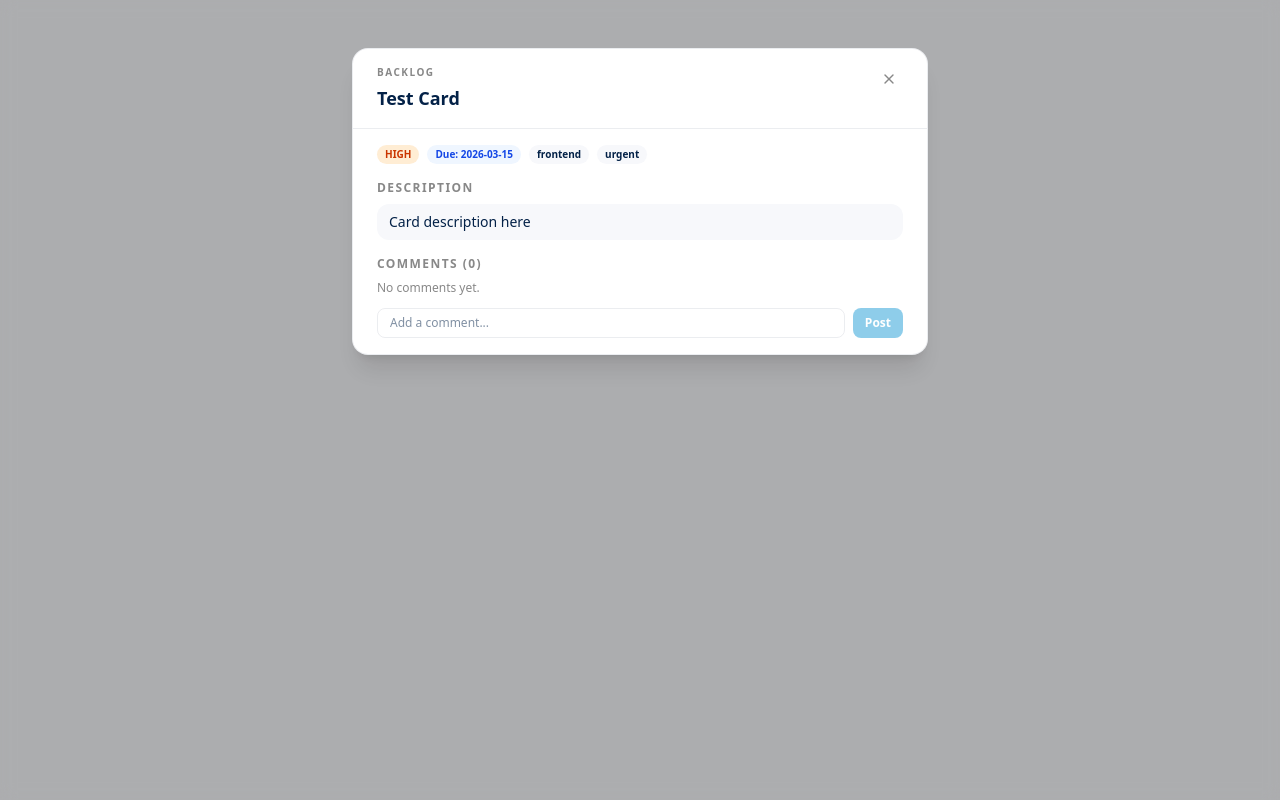
Test: CardDetailModal › adds a new comment
Check: the text "No comments yet." is shown, box [377,279,480,296]
Type "New comment text" into the field labelled "Add a comment...". click: (611, 323)
box: [377,308,845,338]
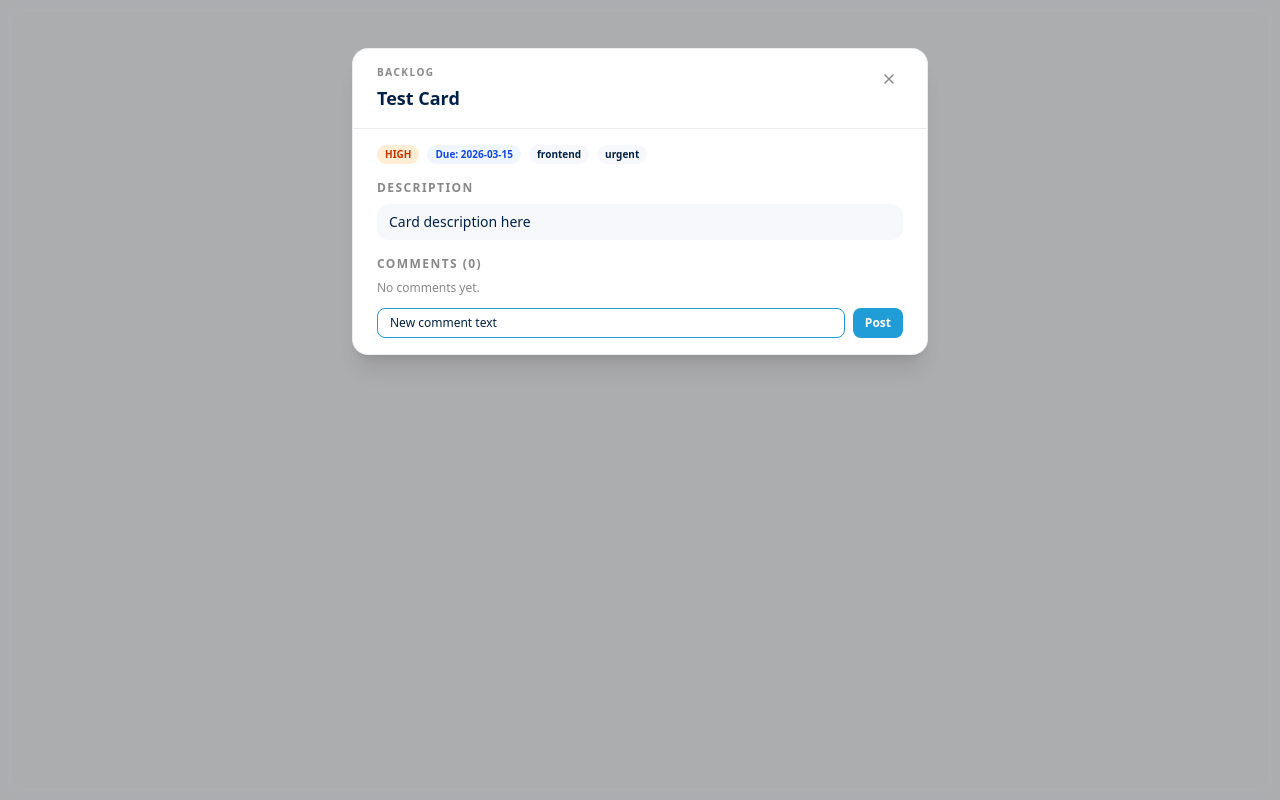
Click the button "Post". click: (878, 323)
box: [853,308,903,338]
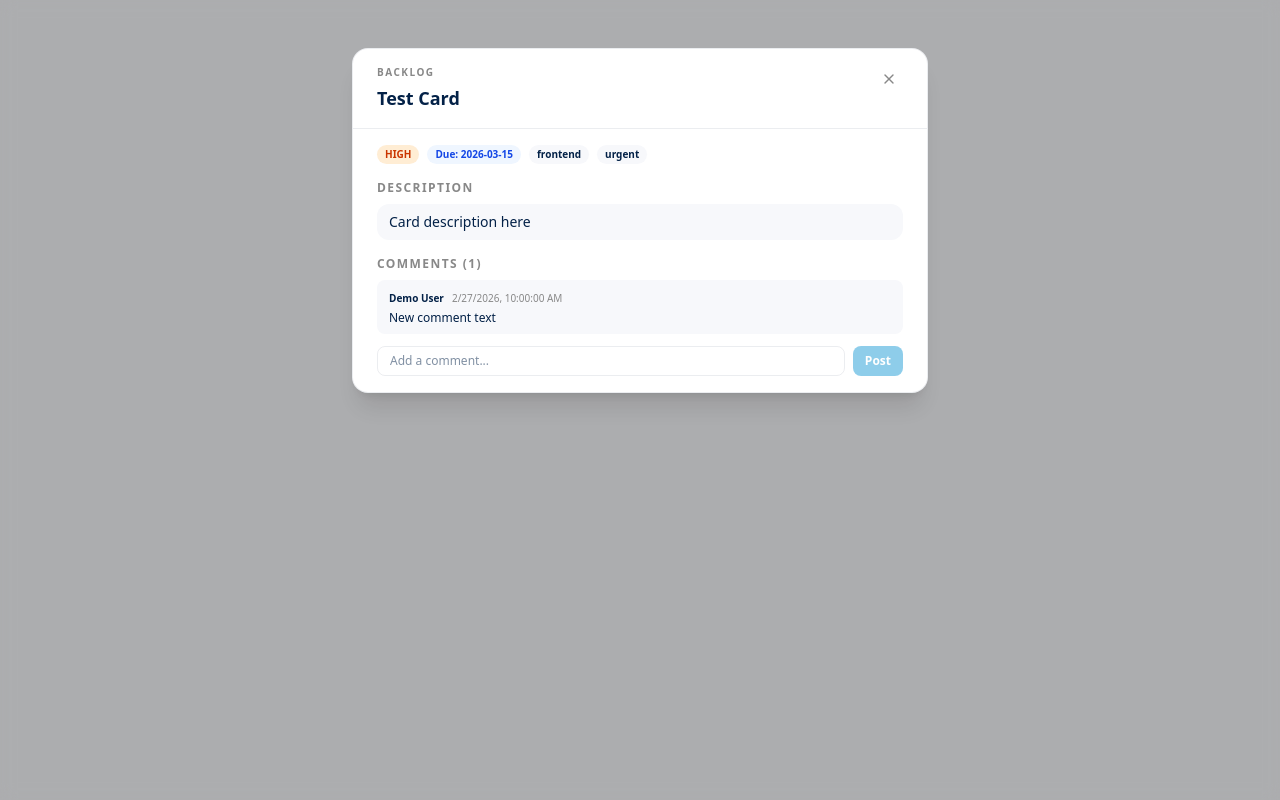
Check: the text "New comment text" is shown, box [389,309,496,326]
